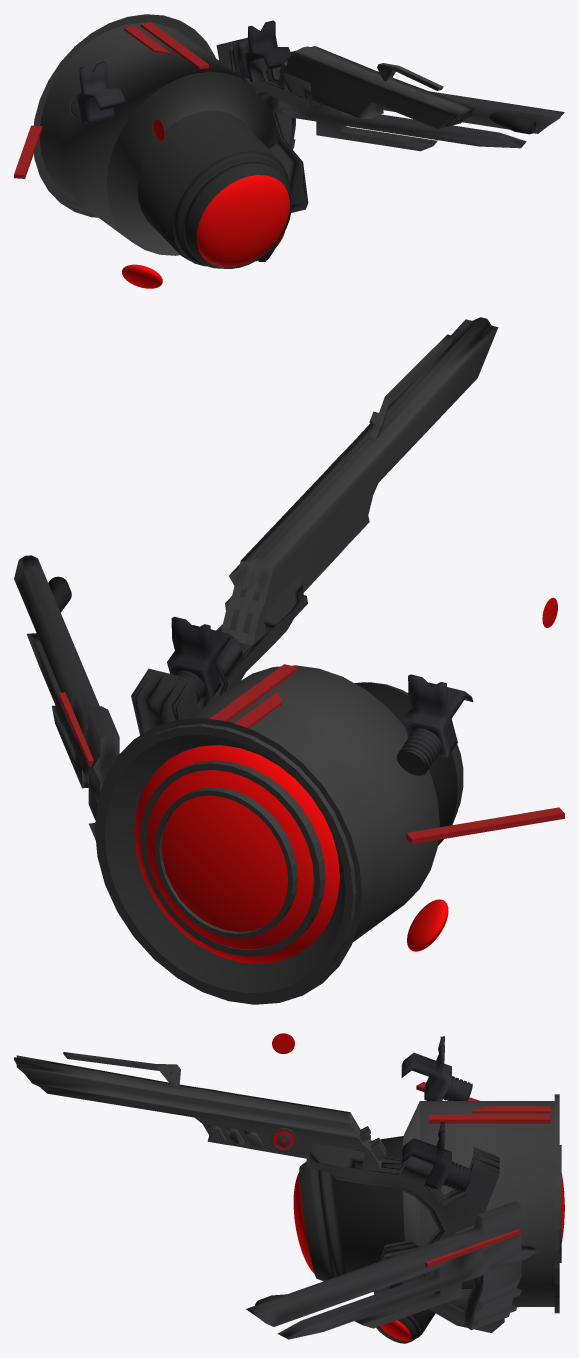
3 views of the same model, one above another, from view 1: azimuth 30°, elevation 25°; view 2: azimuth 150°, elevation 25°; view 3: azimuth 270°, elevation 25° (orthographic). The views are drawn at different scales.
Parts seen in each view (by area): view 1: Cylinder.003, Cylinder.004, Cube, Cube.006, Sphere.001, Cube.001, Cube.003, Cube.002, Cube.004, Sphere.005, Cube.008, Cylinder.007 (+1 smaller); view 2: Cylinder.003, Sphere, Cube, Cube.006, Cube.001, Cylinder.006, Cylinder.008, Cube.003, Cube.002, Cylinder.004, Cube.008, Cylinder.002 (+2 smaller); view 3: Cube.006, Cylinder.003, Cube, Cylinder.004, Cube.001, Cube.003, Cube.002, Cube.004, Cylinder.005, Sphere.001, Cube.007, Cylinder.001 (+5 smaller).
Part boxes in pixels (left/top/right/bottom): Cylinder.003: left=33, top=14, right=277, bottom=255; Cylinder.004: left=137, top=110, right=291, bottom=268; Cube: left=277, top=46, right=474, bottom=128; Cube.006: left=276, top=91, right=564, bottom=151; Sphere.001: left=196, top=175, right=289, bottom=266; Cube.001: left=216, top=37, right=321, bottom=212; Cube.003: left=76, top=61, right=125, bottom=123; Cube.002: left=244, top=20, right=291, bottom=82; Cube.004: left=140, top=21, right=208, bottom=69; Sphere.005: left=122, top=264, right=162, bottom=288; Cube.008: left=14, top=125, right=42, bottom=178; Cylinder.007: left=490, top=111, right=535, bottom=134; Cylinder.003: left=95, top=665, right=439, bottom=1004; Sphere: left=134, top=745, right=339, bottom=963; Cube: left=221, top=317, right=498, bottom=644; Cube.006: left=14, top=555, right=119, bottom=840; Cube.001: left=131, top=574, right=307, bottom=735; Cylinder.006: left=140, top=760, right=325, bottom=956; Cylinder.008: left=155, top=787, right=297, bottom=938; Cube.003: left=403, top=674, right=473, bottom=757; Cube.002: left=167, top=616, right=234, bottom=699; Cylinder.004: left=354, top=682, right=463, bottom=845; Cube.008: left=406, top=807, right=564, bottom=844; Cylinder.002: left=396, top=728, right=441, bottom=775; Cube.006: left=246, top=1201, right=538, bottom=1339; Cylinder.003: left=402, top=1094, right=559, bottom=1313; Cube: left=14, top=1052, right=386, bottom=1169; Cylinder.004: left=299, top=1136, right=404, bottom=1281; Cube.001: left=306, top=1140, right=504, bottom=1333; Cube.003: left=401, top=1036, right=451, bottom=1100; Cube.002: left=401, top=1122, right=451, bottom=1190; Cube.004: left=428, top=1114, right=550, bottom=1123; Cylinder.005: left=376, top=1282, right=435, bottom=1343; Sphere.001: left=293, top=1172, right=314, bottom=1273; Cube.007: left=424, top=1229, right=520, bottom=1267; Cylinder.001: left=443, top=1161, right=470, bottom=1191.
Bounding box in the file's own units: 4.4 × 4.29 × 2.56.
